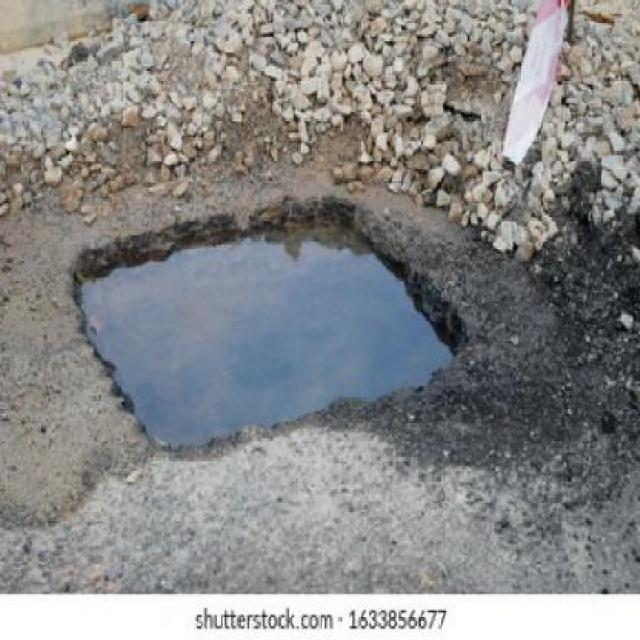Buraco: (63, 192, 480, 464)
